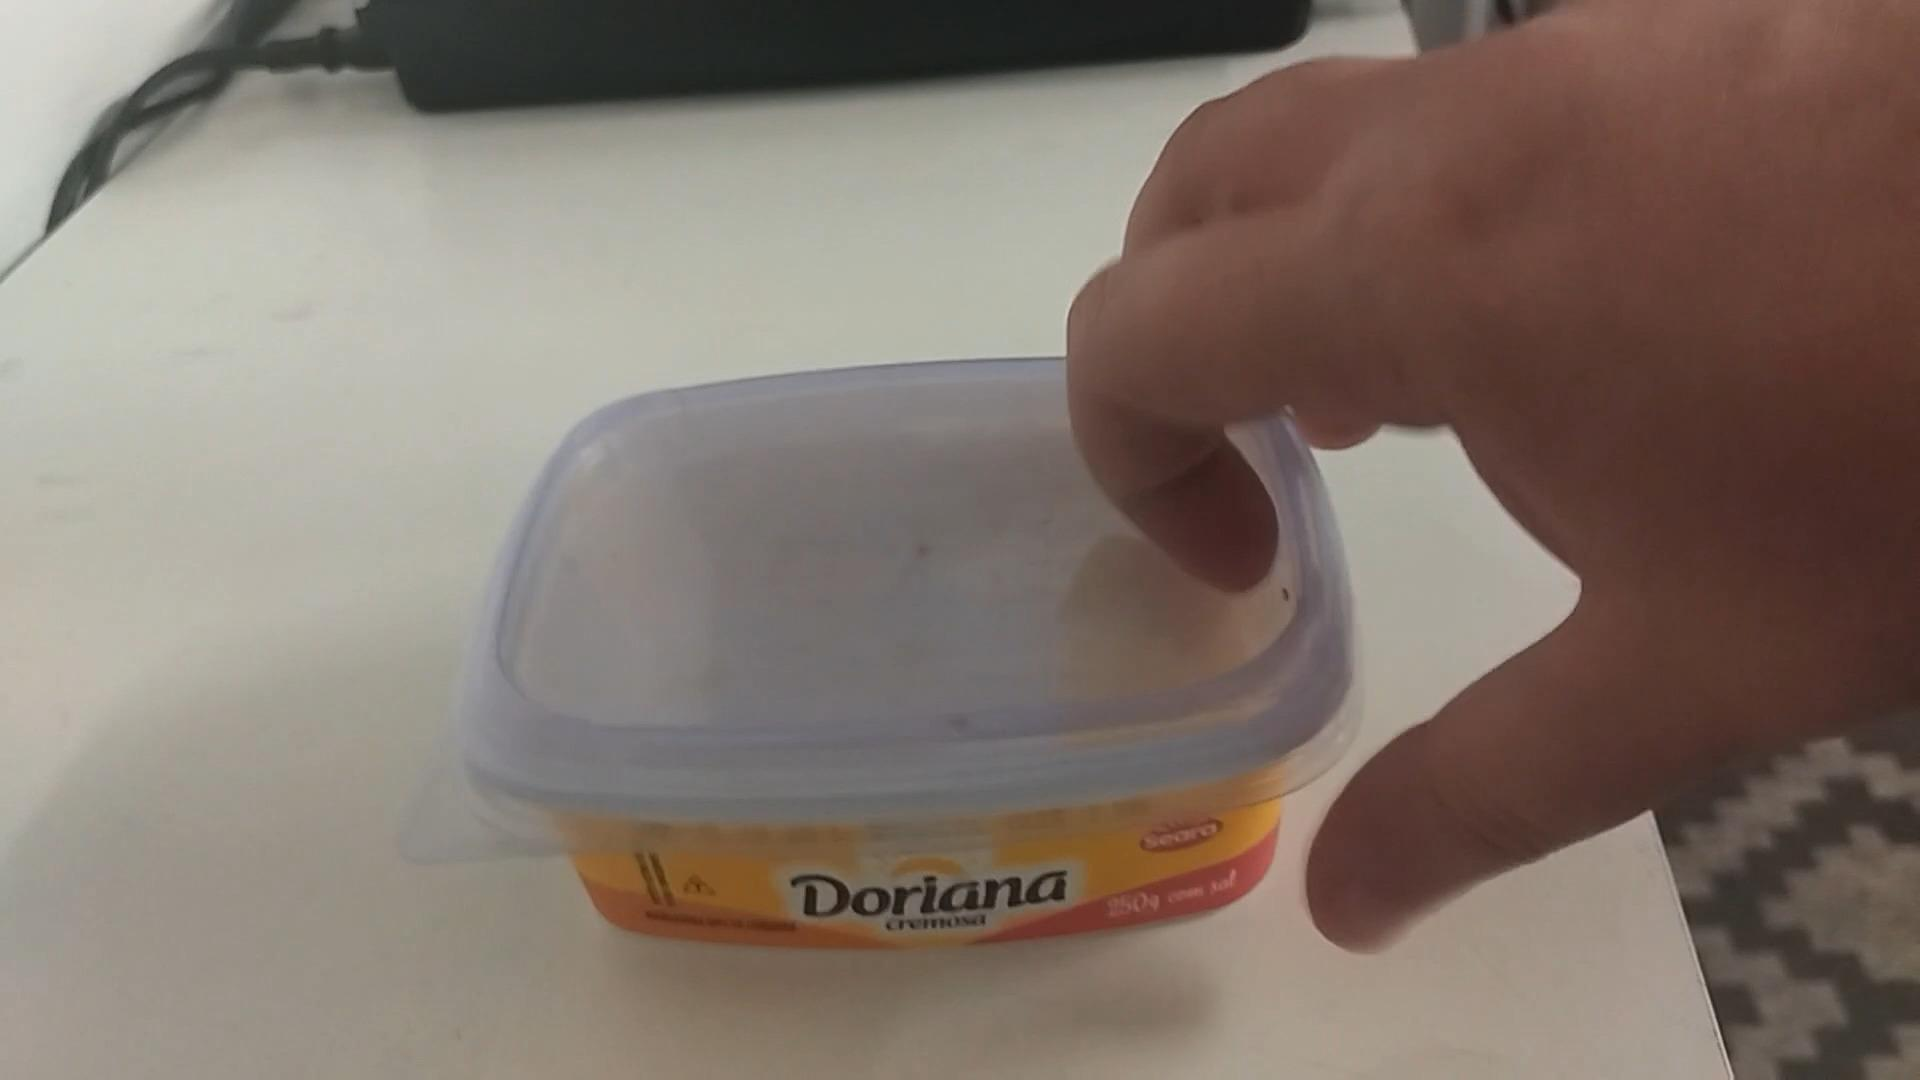butter: (430, 369, 1361, 953)
